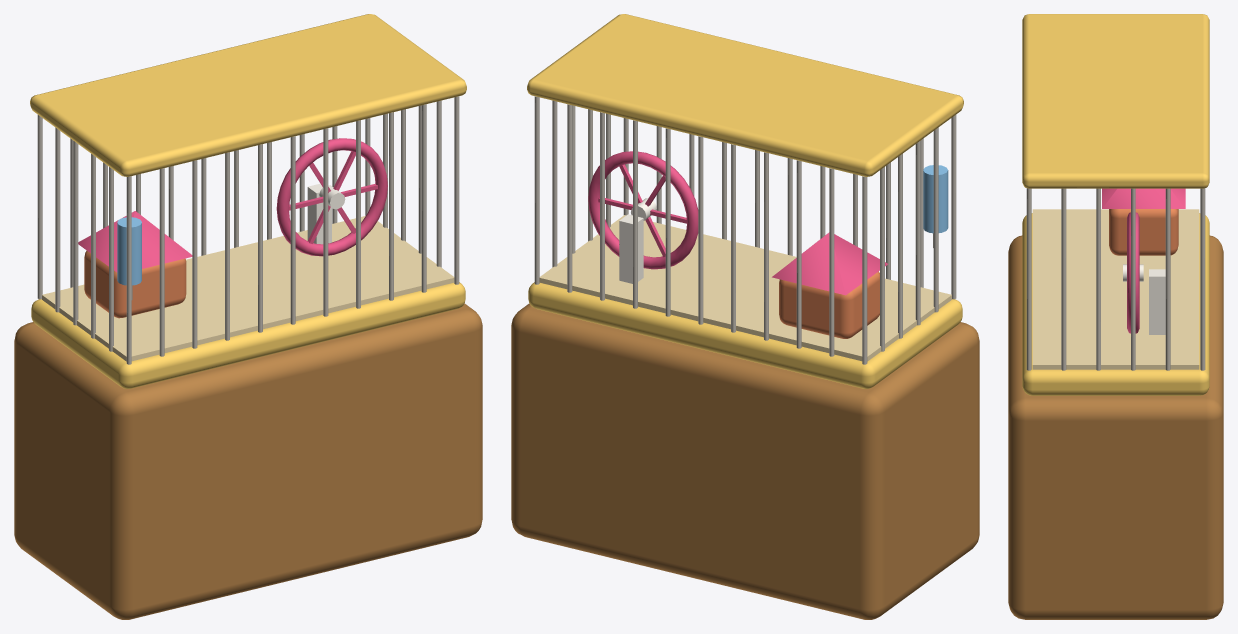
File: tank-hamster.glb
The picture shows the model from 3 angles, left to right: view 1: azimuth 30°, elevation 25°; view 2: azimuth 150°, elevation 25°; view 3: azimuth 270°, elevation 25°; orthographic projection. The views are drawn at different scales.
Bounding box in the file's own units: 1.2 × 1.47 × 0.62.
